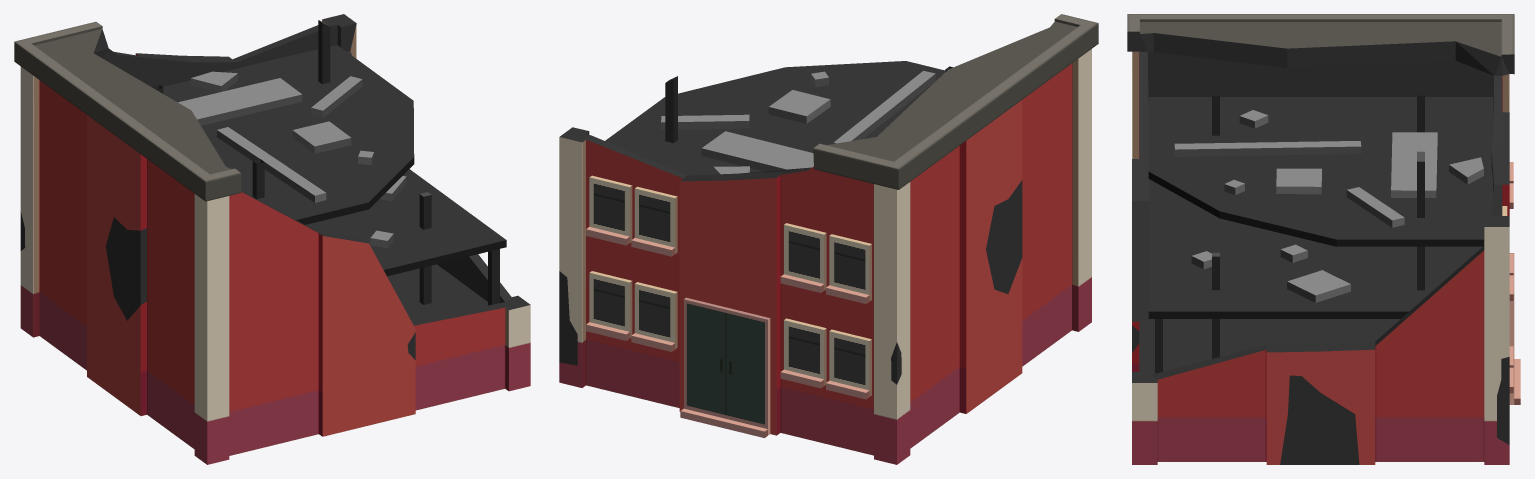
File: SM_Bld_Apartment_Damaged_01.gltf
The picture shows the model from 3 angles, left to right: view 1: azimuth 30°, elevation 25°; view 2: azimuth 150°, elevation 25°; view 3: azimuth 270°, elevation 25°; orthographic projection. The views are drawn at different scales.
Parts seen in each view (by area): view 1: SM_Bld_Apartment_Damaged_01; view 2: SM_Bld_Apartment_Damaged_01; view 3: SM_Bld_Apartment_Damaged_01.
Part boxes in pixels (bbox=[...]): SM_Bld_Apartment_Damaged_01: bbox=[14, 14, 530, 464]; SM_Bld_Apartment_Damaged_01: bbox=[559, 14, 1098, 464]; SM_Bld_Apartment_Damaged_01: bbox=[1127, 14, 1520, 464].
Bounding box in the file's own units: 11.49 × 9.59 × 11.82.
Materials: 1 (1 with a texture image).
